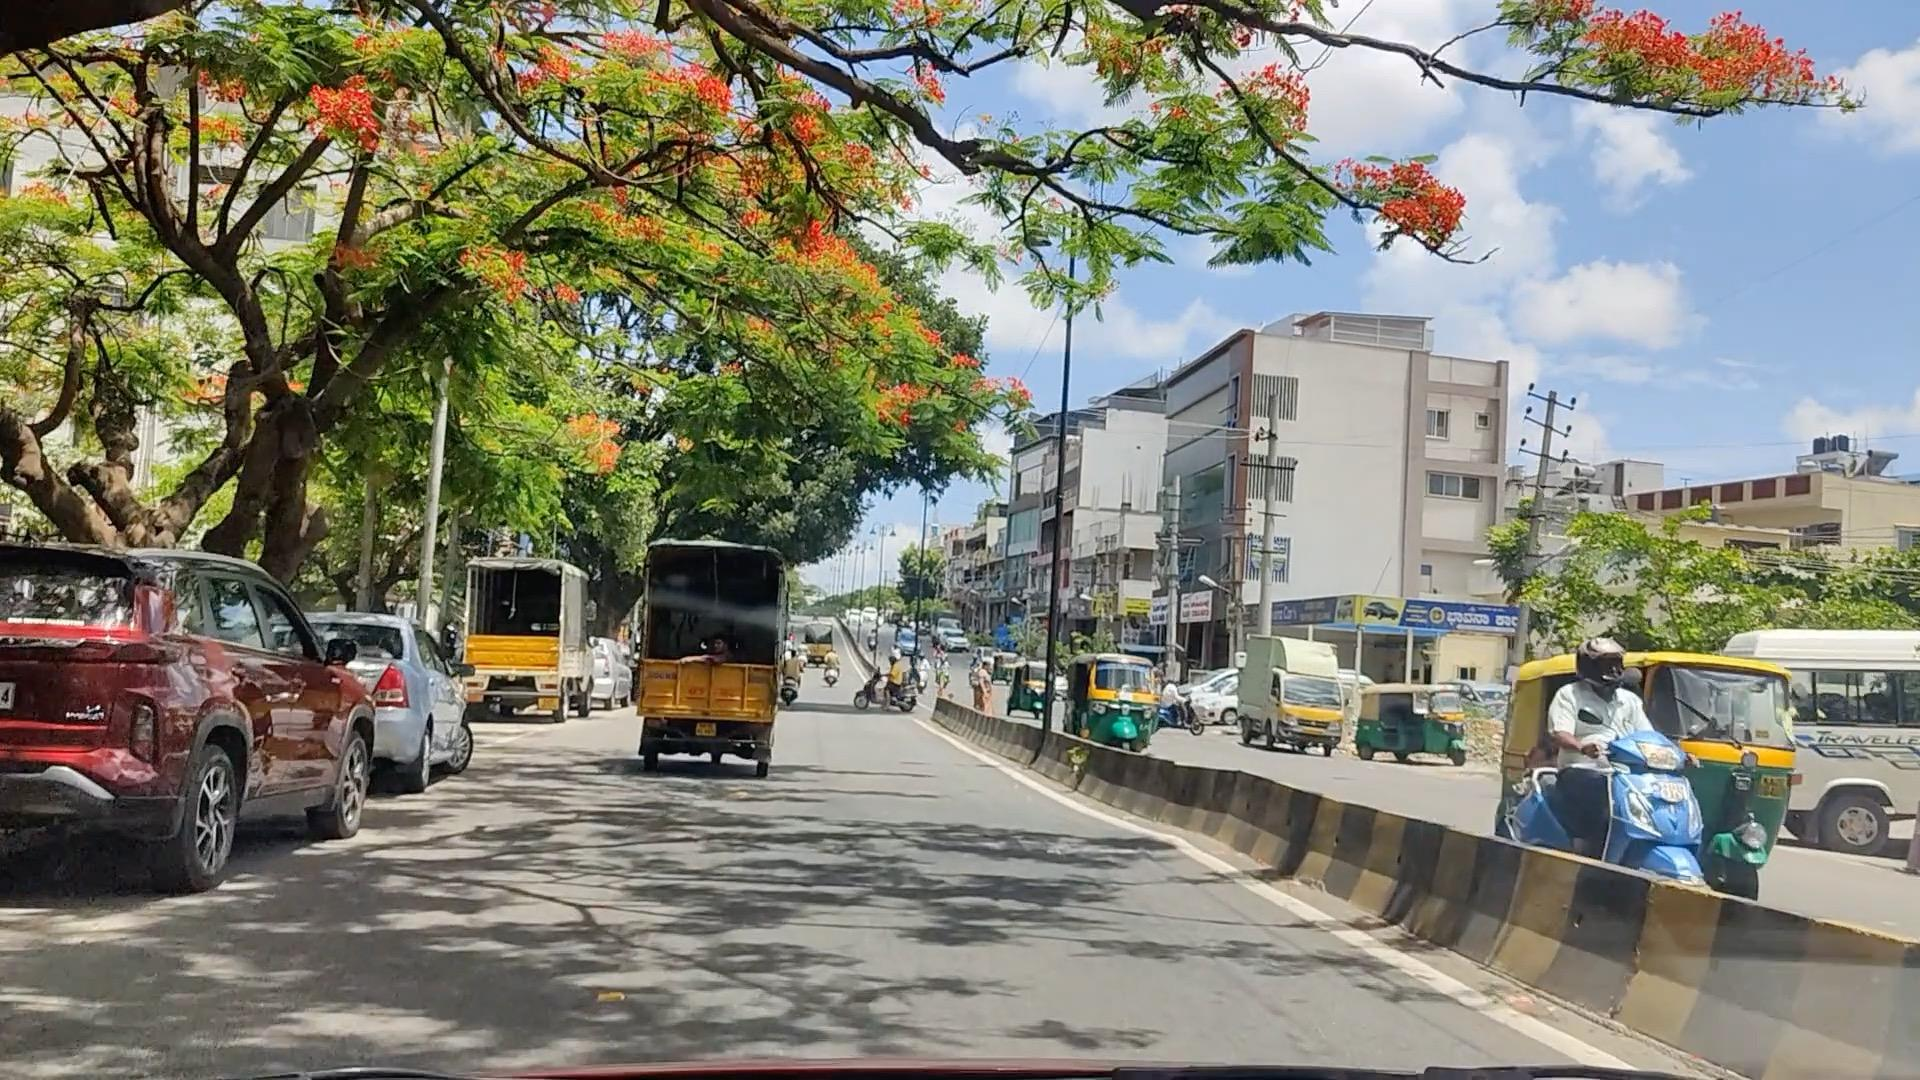HMV: (600, 510, 795, 767)
LMV: (16, 547, 320, 862)
